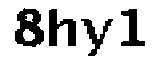1: (117, 3, 151, 52)
8: (6, 5, 45, 51)
h: (46, 3, 80, 50)
y: (79, 14, 115, 60)
